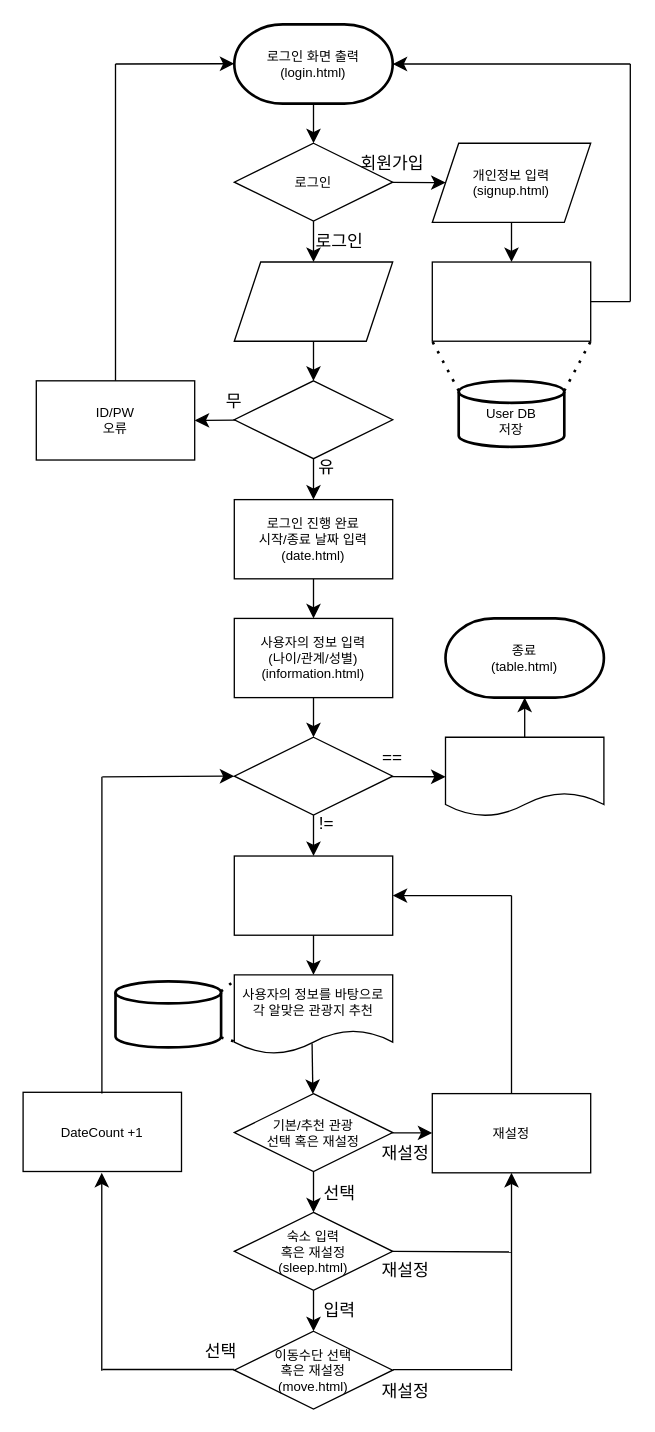
Some shapes in this 655 by 1432 pixel diagram are drawn without their labels. The box of each missing label's shape, as (x1, y1, x2, y2) in pixels:
DateCount TotalCount 비교: (233, 736, 393, 815)
ID/PW 입력: (233, 261, 393, 341)
Spot DB Grade DB: (114, 979, 222, 1048)
User DB 유/무: (233, 380, 393, 459)
나라, 지역 입력 (select.html): (233, 855, 393, 935)
사용자가 선택한 값을 각 일차 별 최적화 출력: (444, 736, 604, 816)
회원가입 완료: (431, 261, 591, 341)
